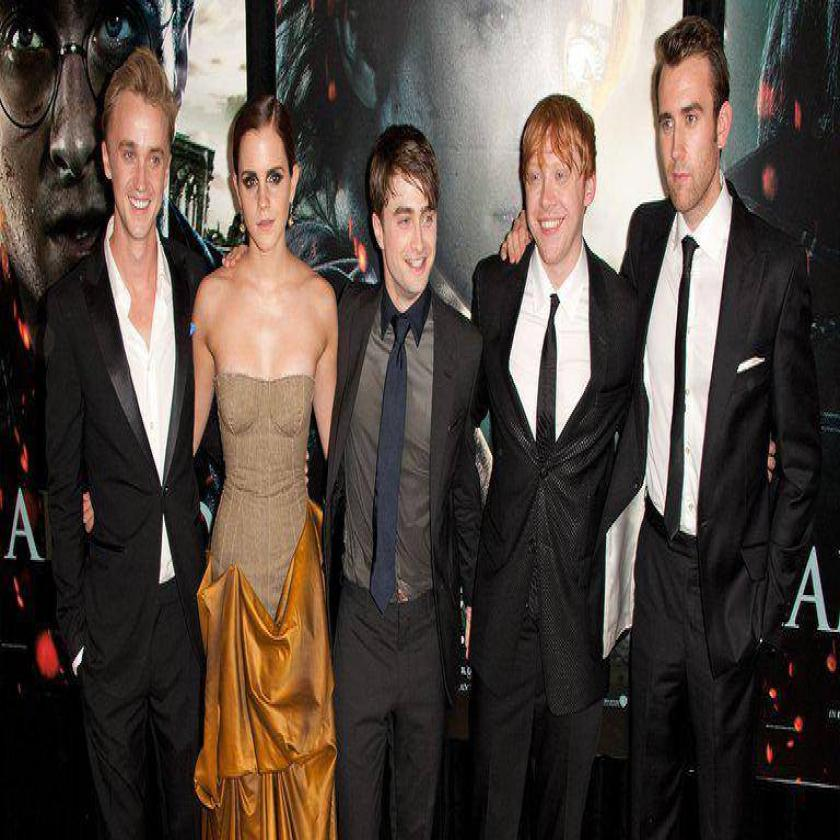Sin_casco: (646, 13, 732, 230), (517, 94, 598, 286), (102, 46, 176, 255), (367, 125, 442, 320), (234, 98, 305, 256)
